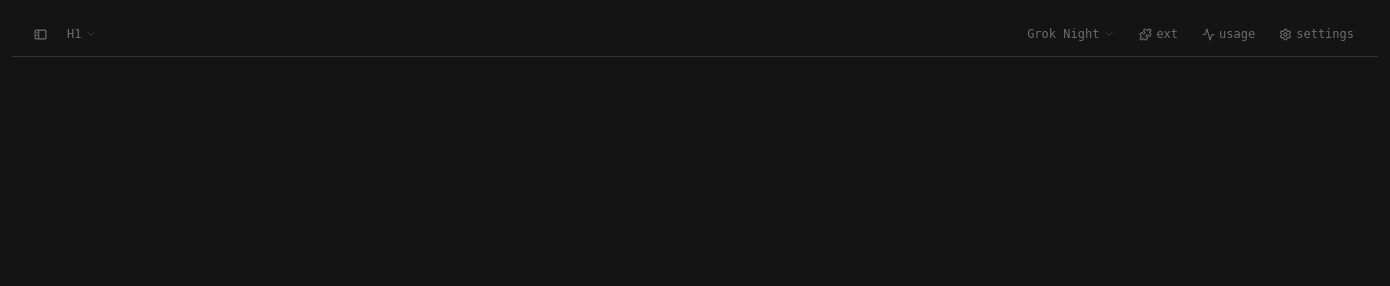
Test: TopBar › host 列表行标记直连 / 中继通路；无近路候选的不显示通道
What coordinates should you click on to do the following:
click the button titled "右键可管理"
I would click on:
 (82, 34)
Its box is [61,18,104,50].
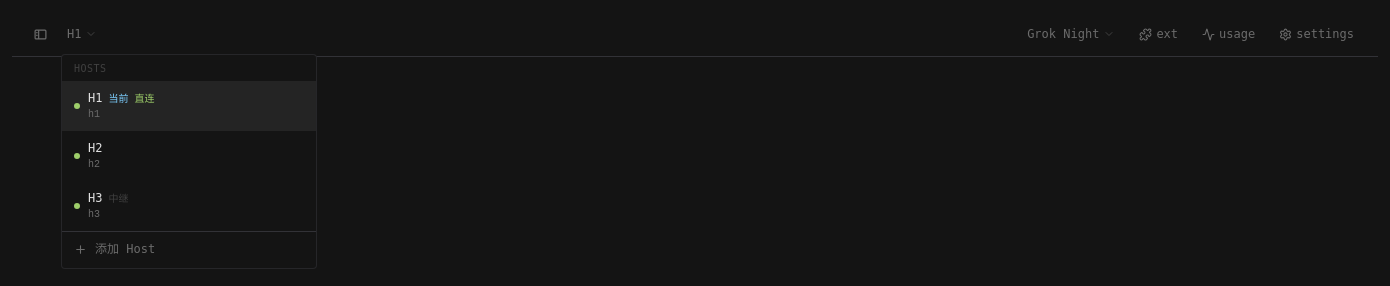
Expected: the text "直连" is shown, [134,92,154,104]
Expected: the text "中继" is shown, [108,193,128,204]
Expected: the button titled "直连 http://127.0.0.1:8765" is shown, [62,80,316,131]
